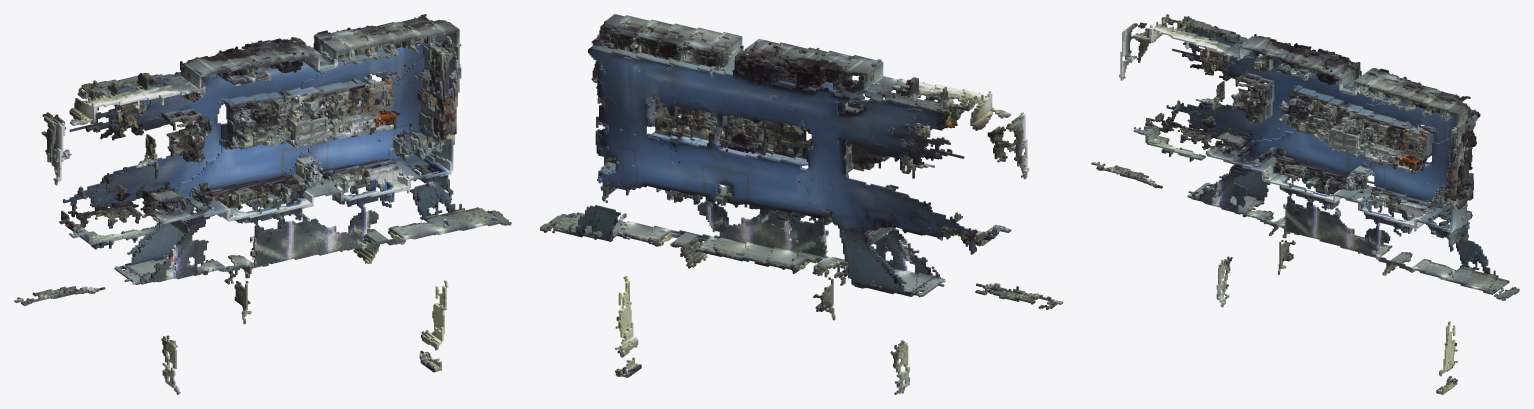
Rendered from geomap_colour_noroof.obj.
3 renders of one model, left to right at view 1: azimuth 30°, elevation 25°; view 2: azimuth 150°, elevation 25°; view 3: azimuth 330°, elevation 25°, orthographic. The views are drawn at different scales.
Visible parts, largest first — view 1: mesh; view 2: mesh; view 3: mesh.
Boxes of the visible parts, x1,y1,x2,y2 form: mesh: [14, 14, 511, 394]; mesh: [540, 14, 1062, 394]; mesh: [1091, 14, 1519, 394].
Size of the model in its own units: 30.4 by 20.9 by 3.1.
1 material, 1 textured.
